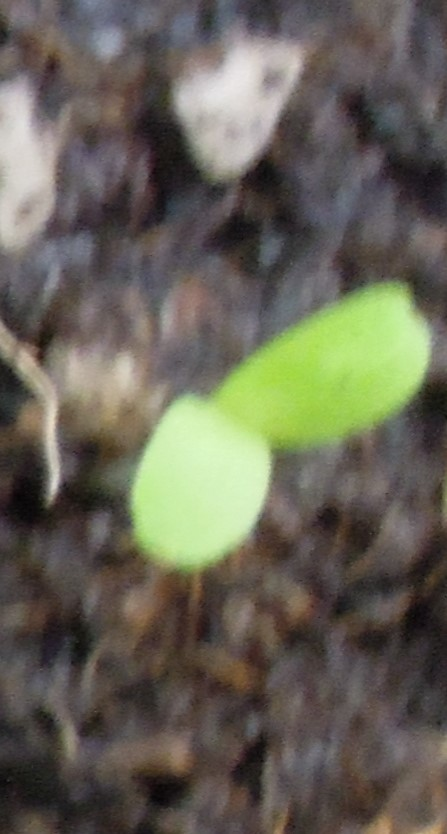week1: (66, 274, 441, 587)
